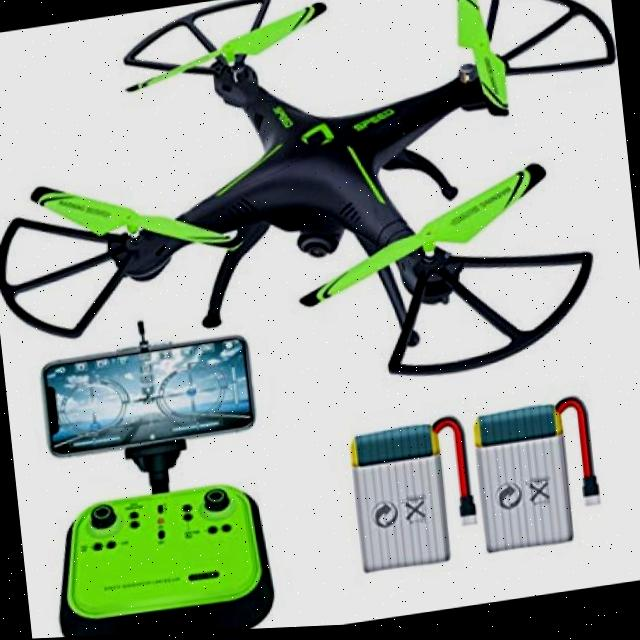drone: (0, 0, 640, 447)
